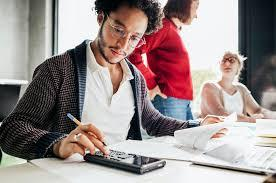Persons: (81, 0, 165, 62)
